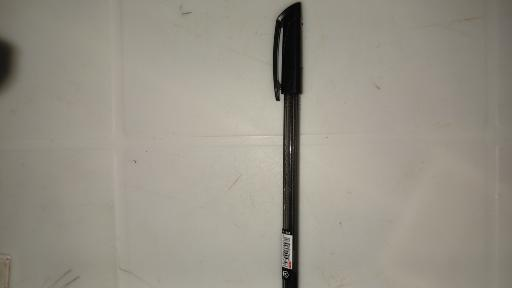pen: (272, 0, 304, 288)
